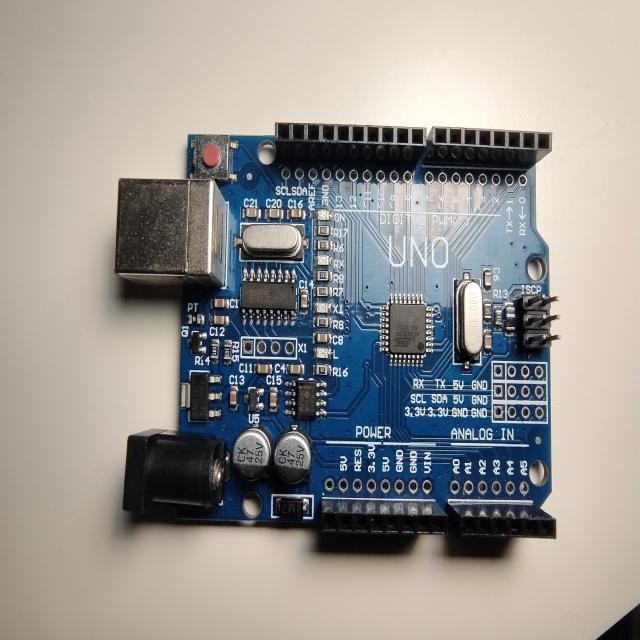arduino: (110, 108, 561, 573)
